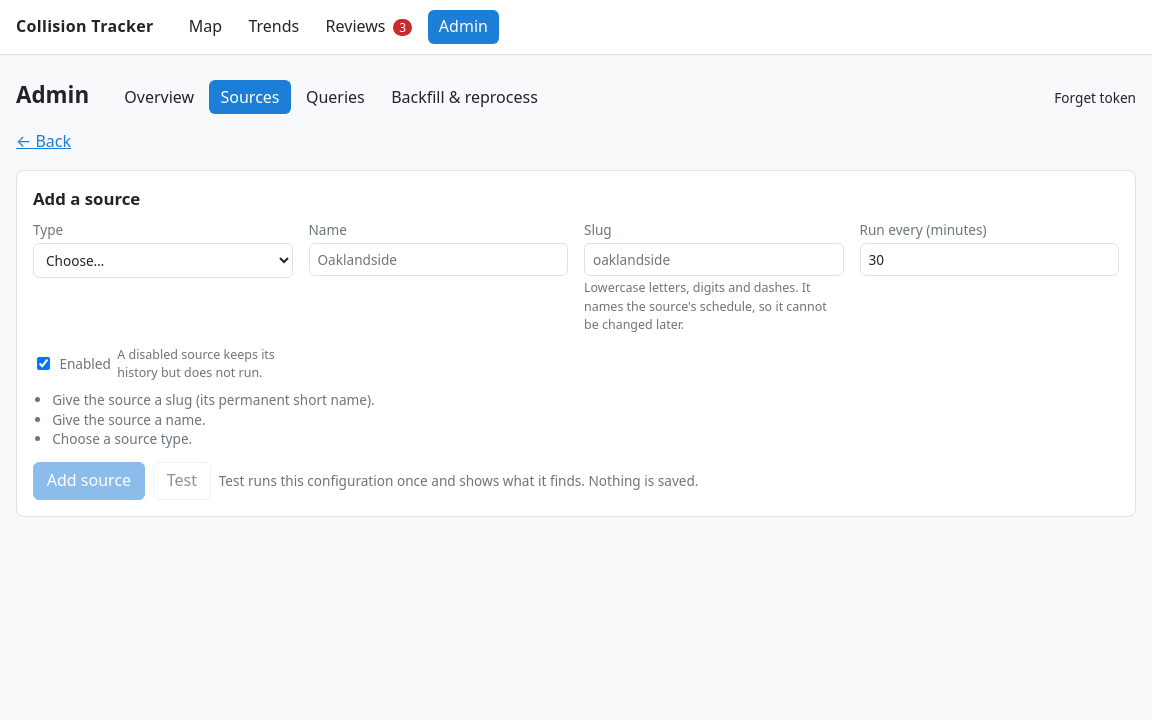
Source form › stays on the form and says so when the source saved but its schedule did not
Select "RSS feed" in the dropdown labelled "Type" at (163, 260), box left=33, top=243, right=292, bottom=278
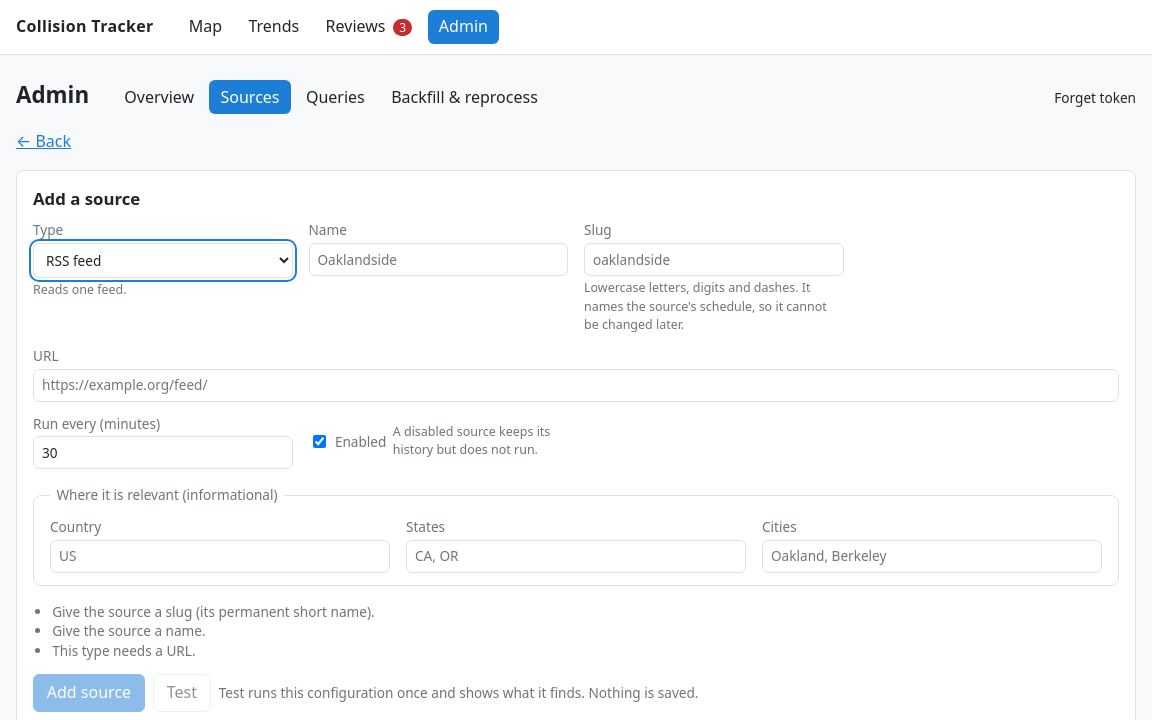
Type "Test Feed" into the field labelled "Name".
click(438, 260); type("Test Feed")  # box left=308, top=243, right=568, bottom=276
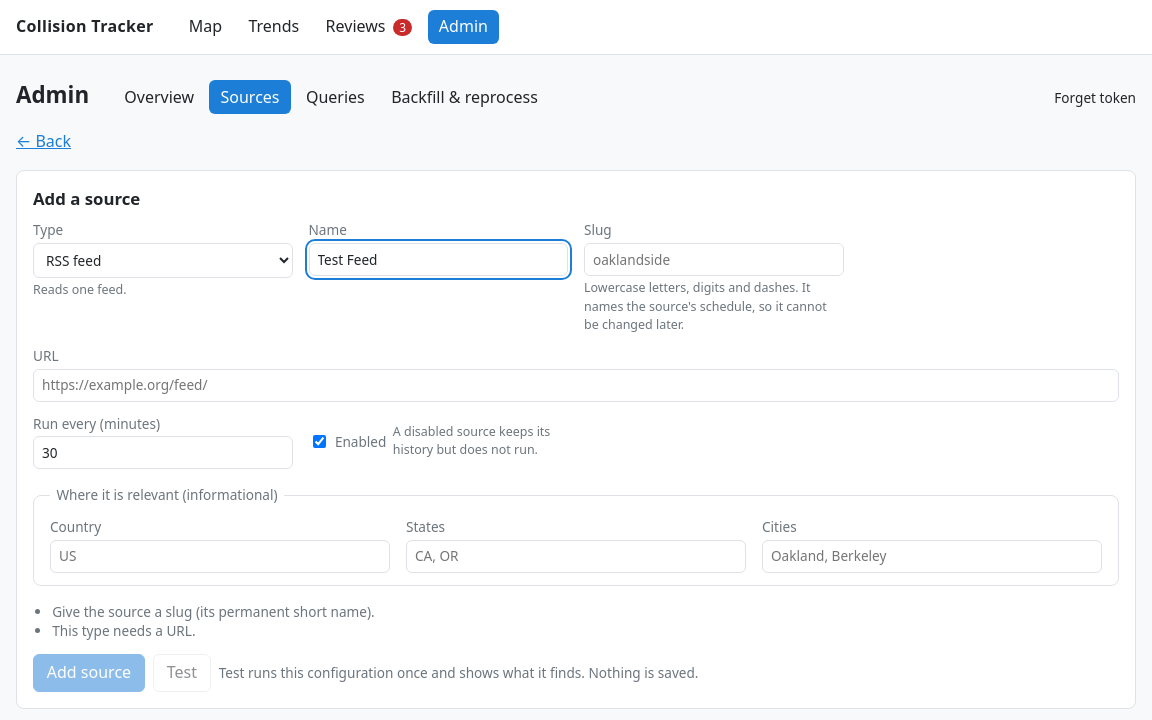
Type "test-feed" into the field labelled "Slug".
click(714, 260); type("test-feed")  # box left=584, top=243, right=844, bottom=276
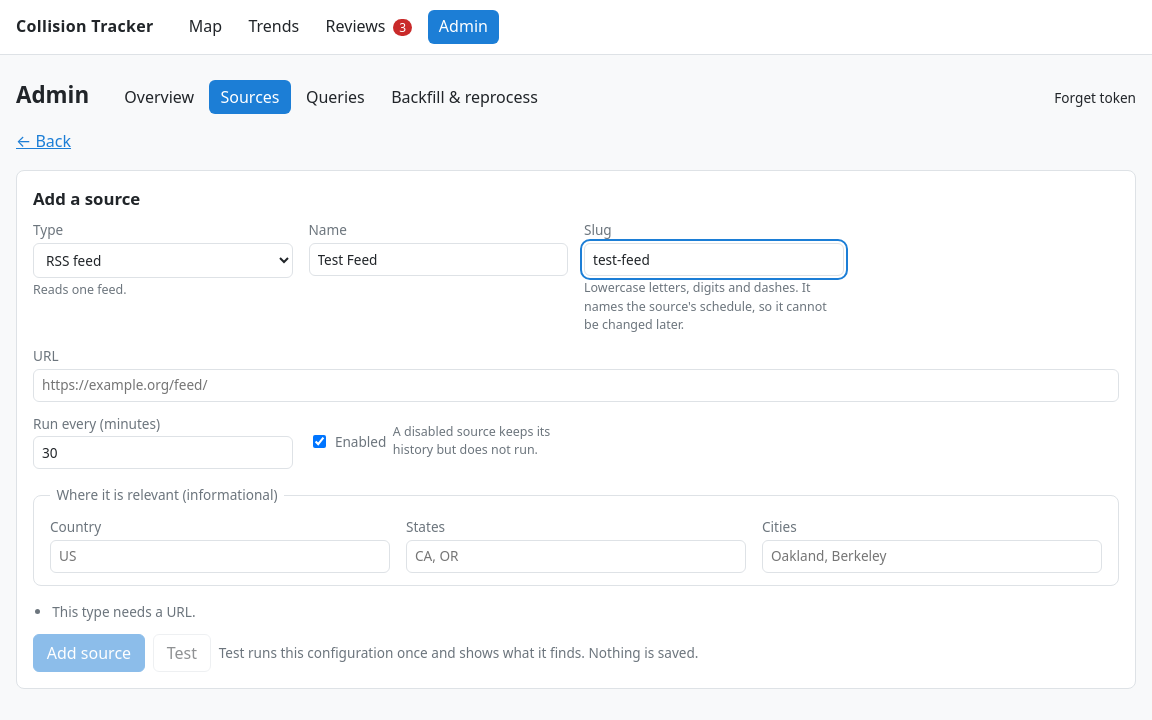
Type "https://t.test/feed" into the field labelled "URL".
click(576, 385); type("https://t.test/feed")  # box left=33, top=369, right=1119, bottom=402
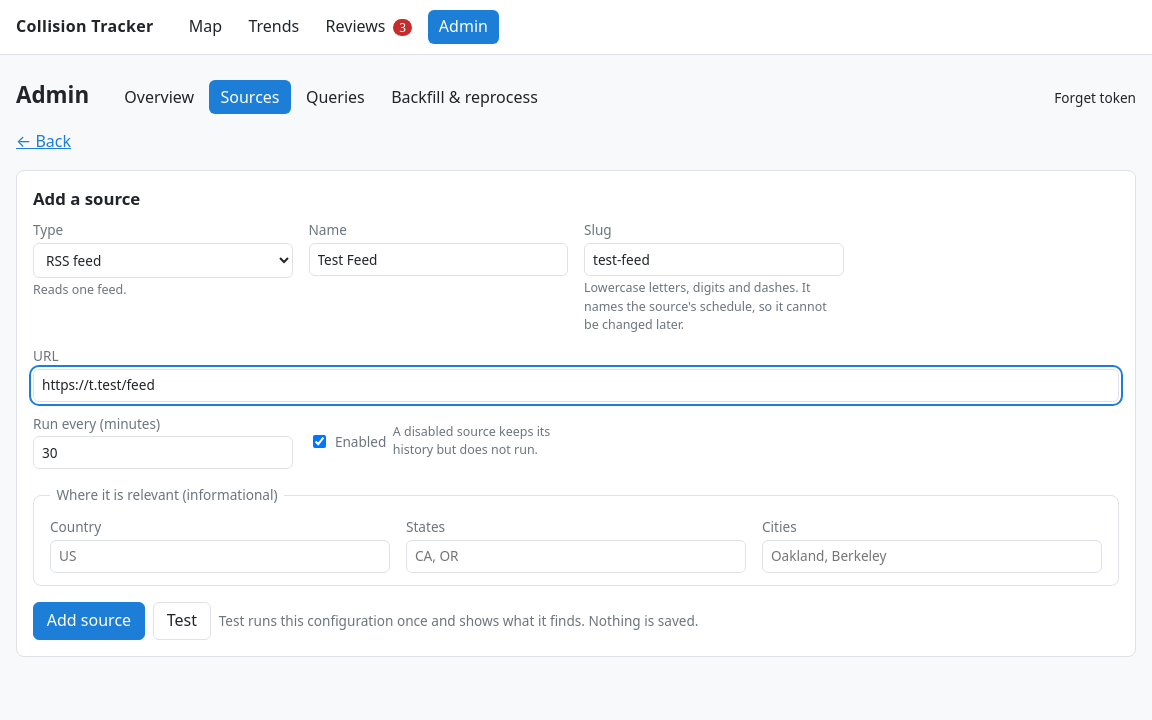
Click the button "Add source".
click(89, 621)  # box left=33, top=602, right=145, bottom=640
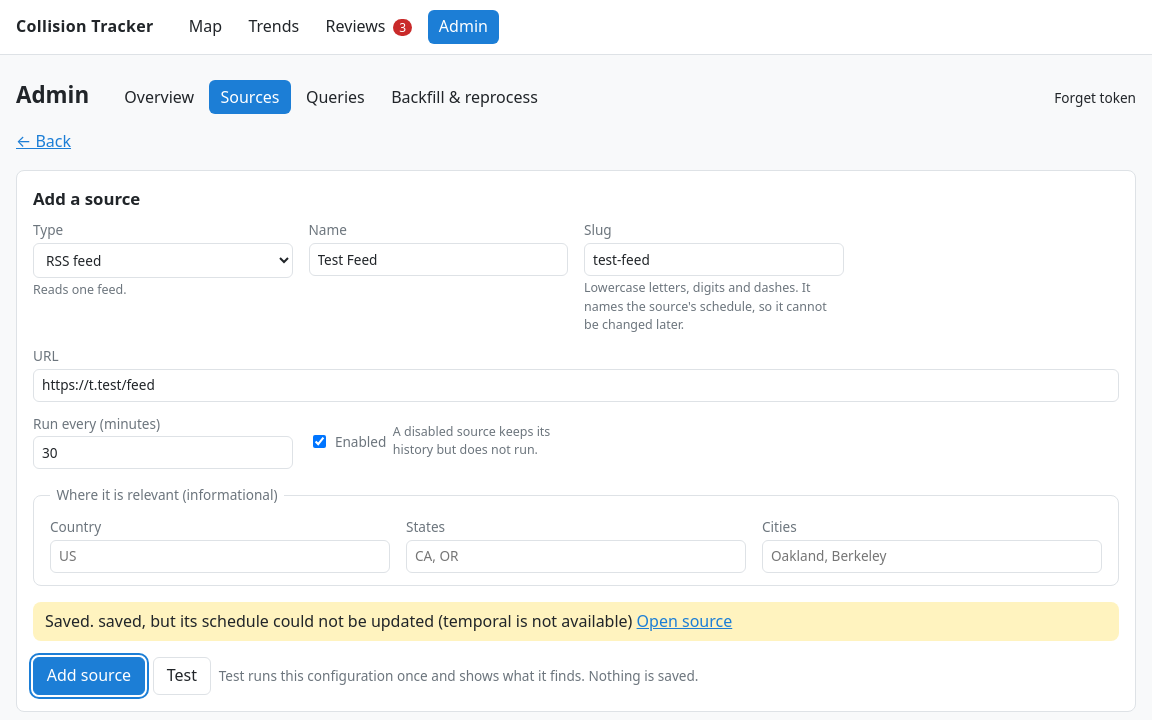
Expected: the text "schedule could not be updated" is shown, left=98, top=610, right=632, bottom=632
